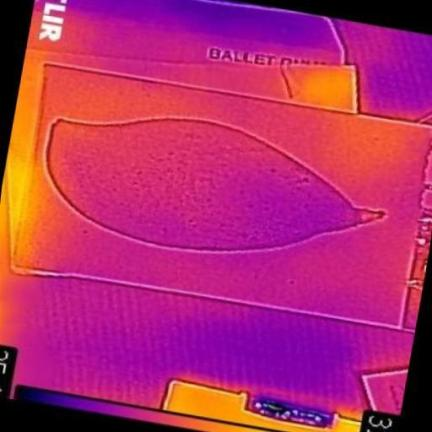mango: (47, 117, 384, 250)
